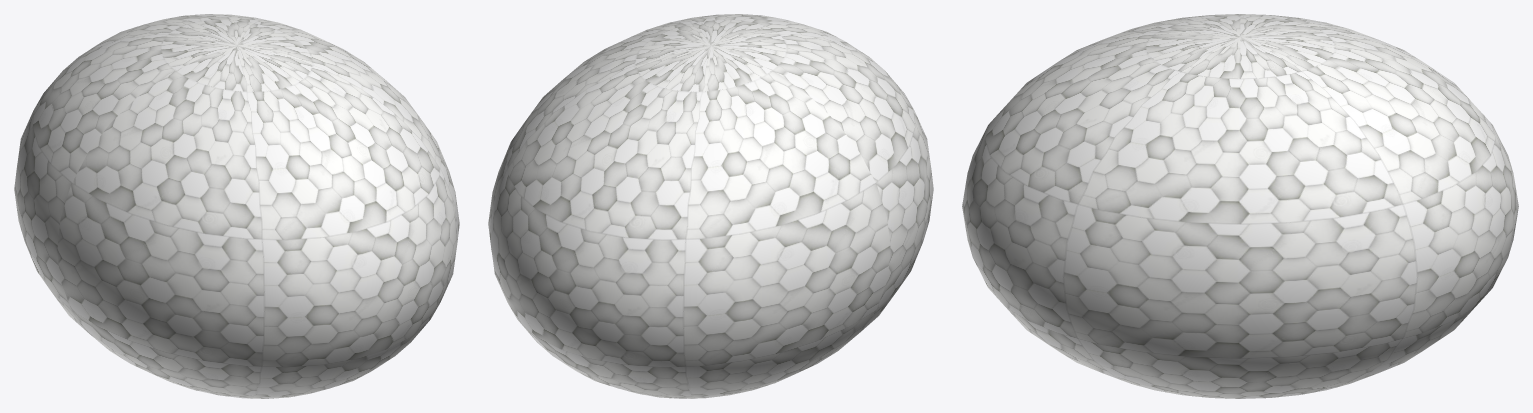
File: Shield_sphere.fbx
3 views of the same model, side by side, from view 1: azimuth 30°, elevation 25°; view 2: azimuth 150°, elevation 25°; view 3: azimuth 270°, elevation 25° (orthographic). The views are drawn at different scales.
Parts seen in each view (by area): view 1: Shield_node; view 2: Shield_node; view 3: Shield_node.
Part boxes in pixels (left/top/right/bottom): Shield_node: left=14, top=14, right=459, bottom=398; Shield_node: left=488, top=14, right=933, bottom=398; Shield_node: left=962, top=14, right=1518, bottom=398.
Bounding box in the file's own units: 1105 × 944 × 1404.
